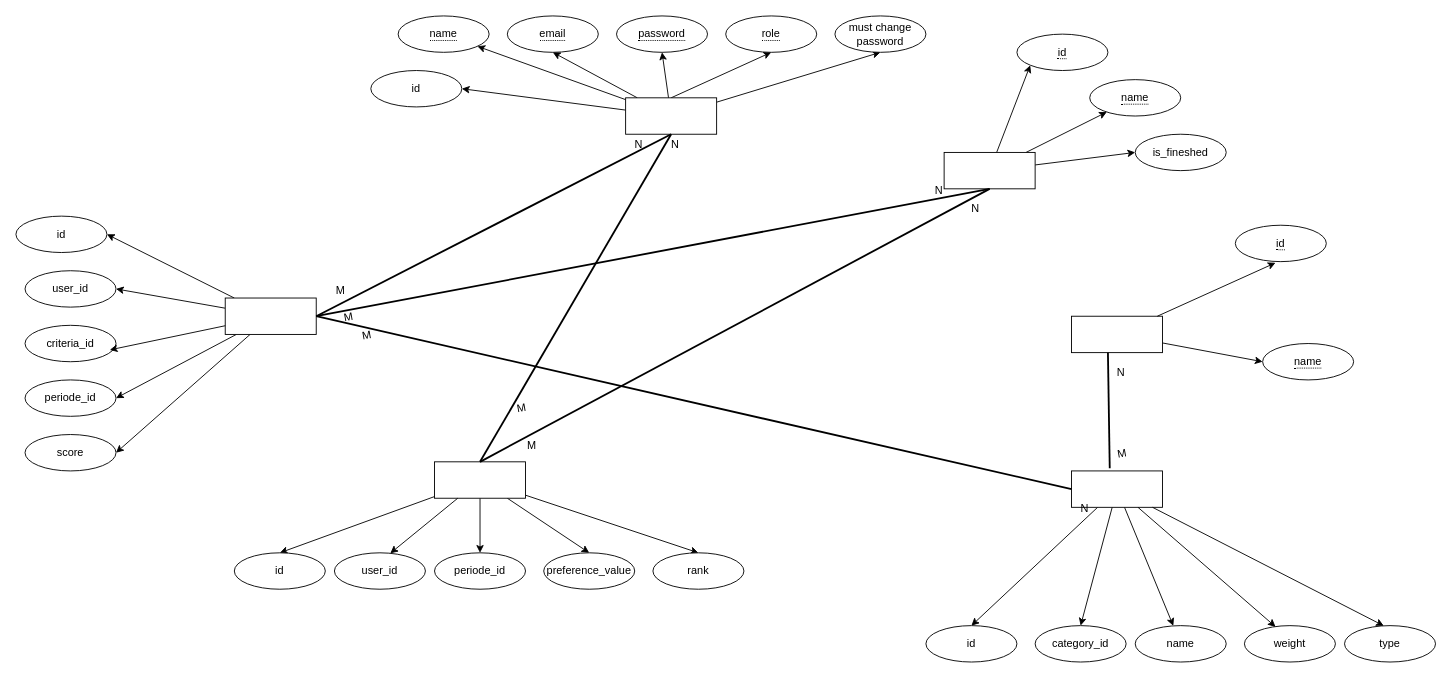
Some shapes in this 1451 by 678 pixel diagram are drawn without their labels. The centre of each missing label's shape, as x and y in pixels:
"Categories" goes at (1117,334).
"Kriteria" goes at (1117,488).
"performance" goes at (270,315).
"Periode" goes at (989,170).
"topsis result" goes at (480,479).
"User" goes at (671,115).
